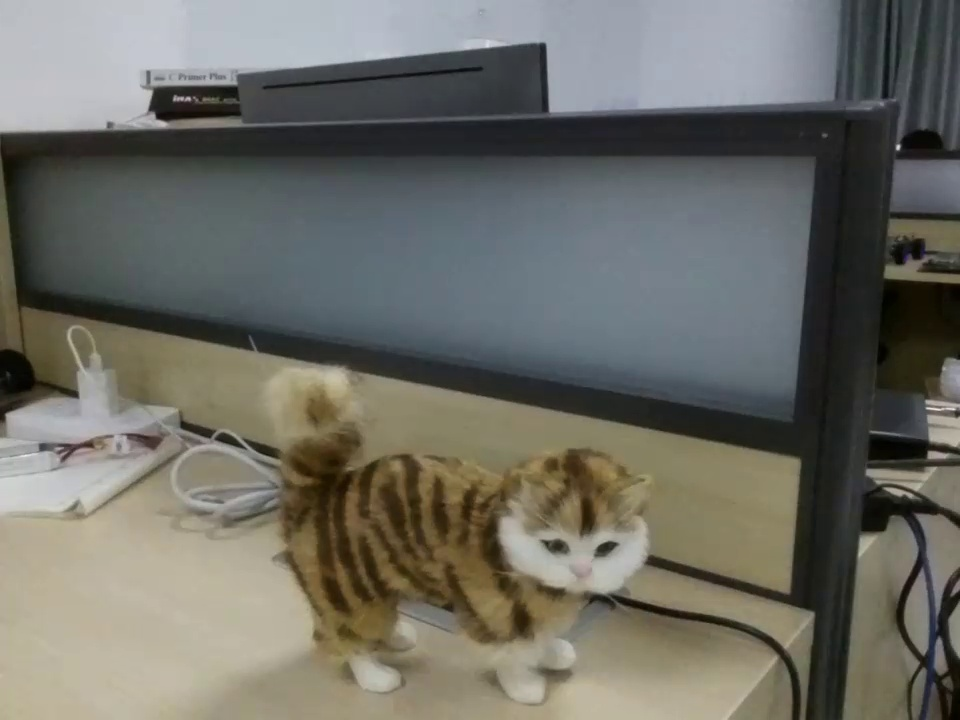cat: (228, 342, 660, 709)
